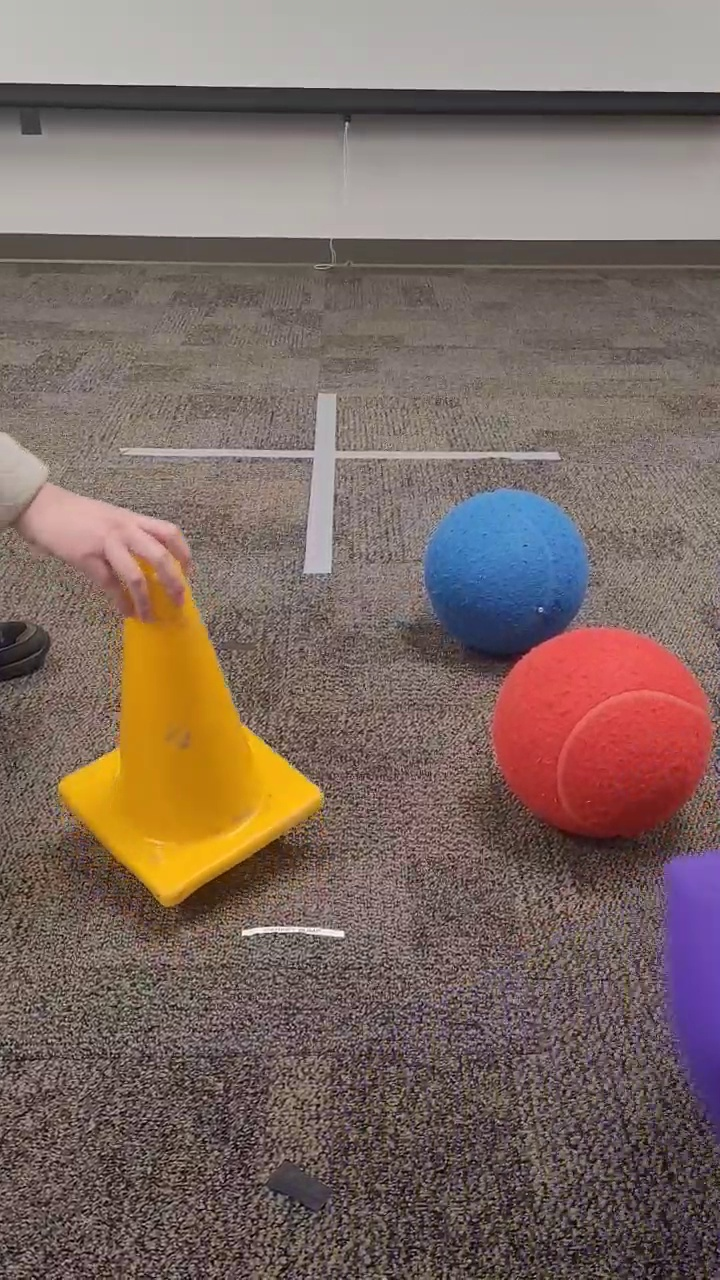ball: (489, 621, 714, 848), (422, 484, 591, 660)
cone: (49, 545, 329, 913)
cube: (656, 837, 720, 1122)
foot: (1, 609, 56, 691)
hand: (1, 423, 197, 625)
